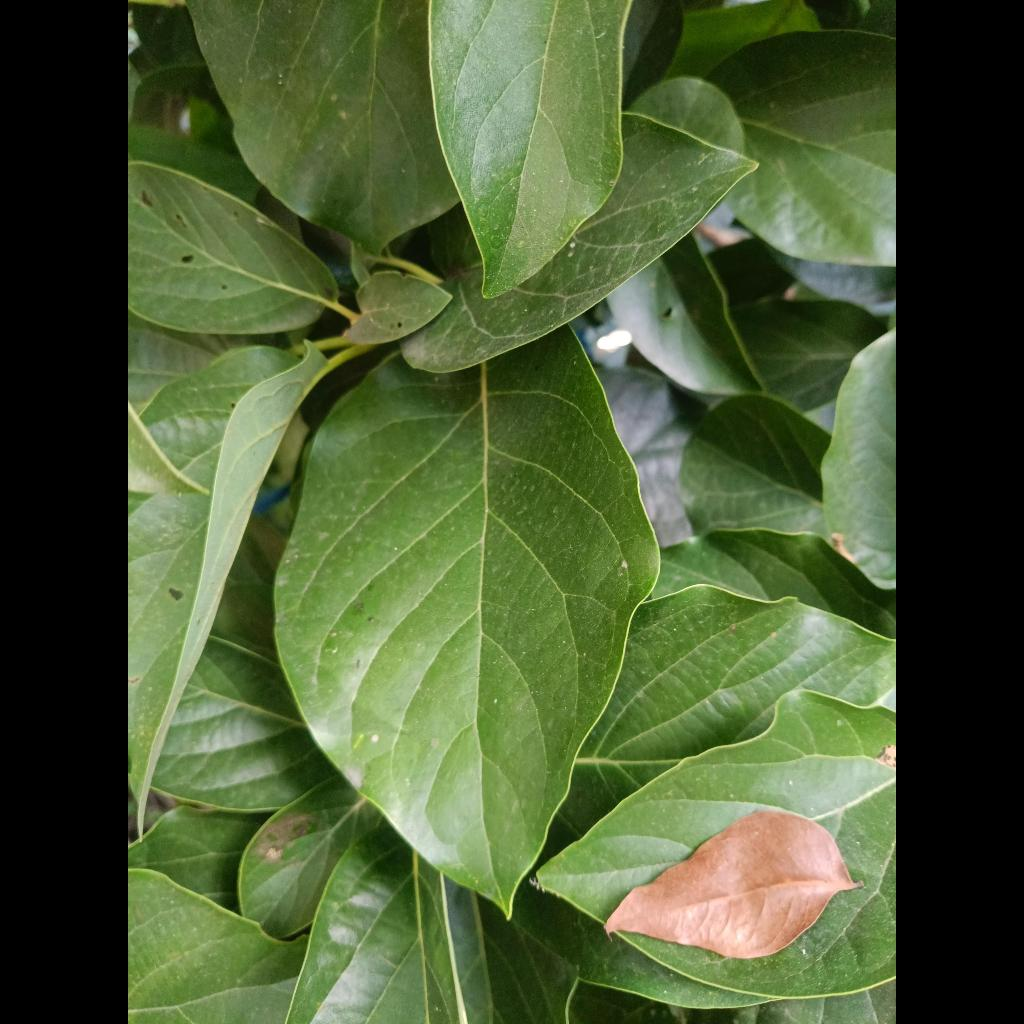Healthy: (277, 327, 658, 911)
